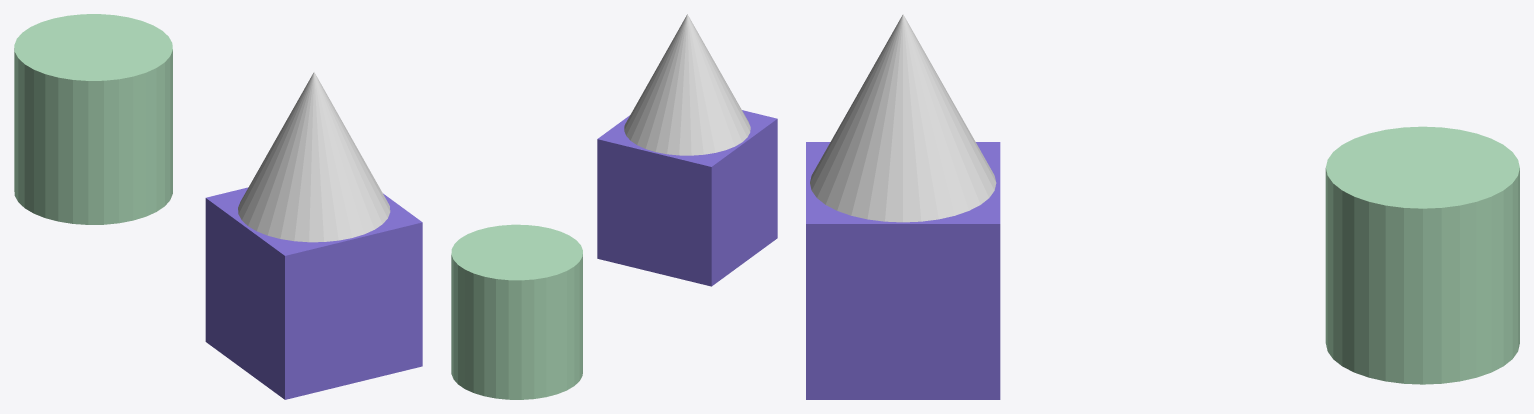
3 renders of one model, left to right at view 1: azimuth 30°, elevation 25°; view 2: azimuth 150°, elevation 25°; view 3: azimuth 270°, elevation 25°, orthographic. The views are drawn at different scales.
Parts seen in each view (by area): view 1: cube1, zhuti2, zhuiti3; view 2: cube1, zhuti2, zhuiti3; view 3: zhuti2, cube1, zhuiti3.
Part boxes in pixels (<box>): cube1: <box>205,187,422,399</box>; zhuti2: <box>14,14,172,224</box>; zhuiti3: <box>238,72,390,242</box>; cube1: <box>597,110,777,286</box>; zhuti2: <box>451,224,582,399</box>; zhuiti3: <box>624,14,750,155</box>; zhuti2: <box>1325,126,1519,384</box>; cube1: <box>806,142,1000,399</box>; zhuiti3: <box>810,14,996,222</box>.
Size of the model in its own units: 2.11 by 3.92 by 7.35.
